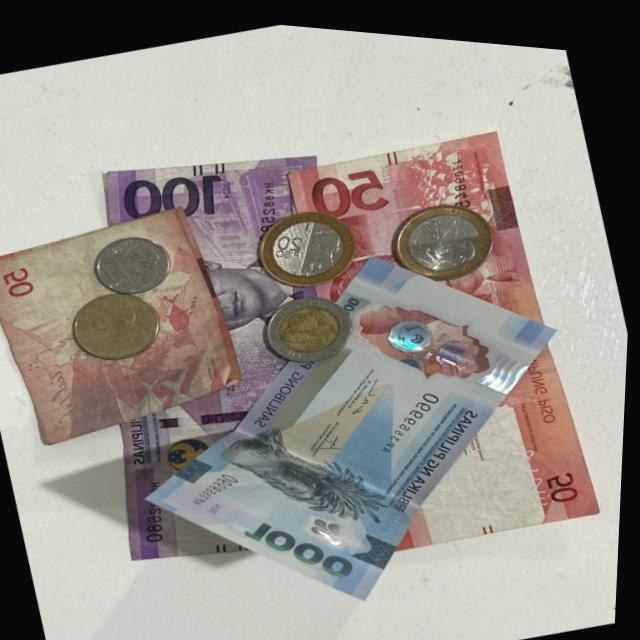10_Old_Front: (259, 280, 362, 368)
1_New_Front: (98, 250, 131, 285)
20_New_Front: (418, 199, 466, 241), (267, 219, 311, 260)
5_Old_Front: (90, 305, 120, 340)
serial_number: (370, 373, 458, 455), (435, 144, 486, 208), (246, 174, 289, 243)
